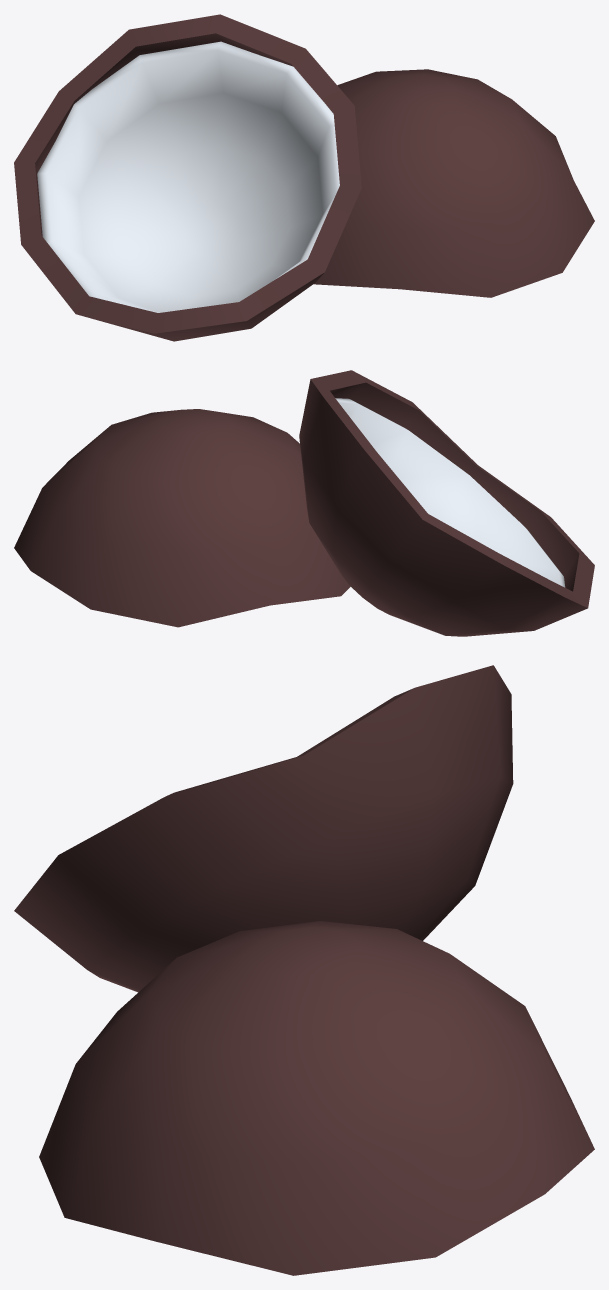
The model's file is kelapa_santan.fbx.
The picture shows the model from 3 angles, top to bottom: view 1: azimuth 30°, elevation 25°; view 2: azimuth 150°, elevation 25°; view 3: azimuth 270°, elevation 25°; orthographic projection. The views are drawn at different scales.
Visible parts, largest first — view 1: Sphere.001; view 2: Sphere.001; view 3: Sphere.001.
Boxes of the visible parts, x1=… form: Sphere.001: x1=14, y1=14, x2=594, y2=341; Sphere.001: x1=14, y1=370, x2=594, y2=636; Sphere.001: x1=14, y1=665, x2=594, y2=1275.
Size of the model in its own units: 48.45 by 20.99 by 29.29.
